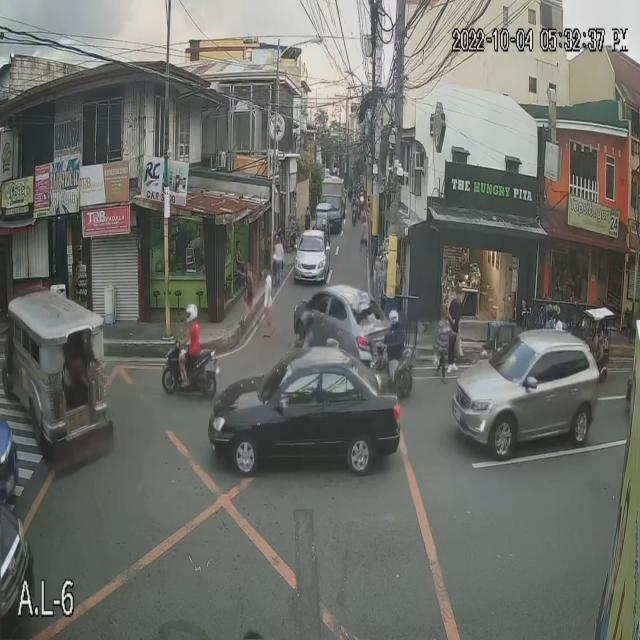Full-Faced: (182, 302, 198, 324), (550, 304, 561, 326), (388, 310, 400, 329), (542, 301, 552, 322)
